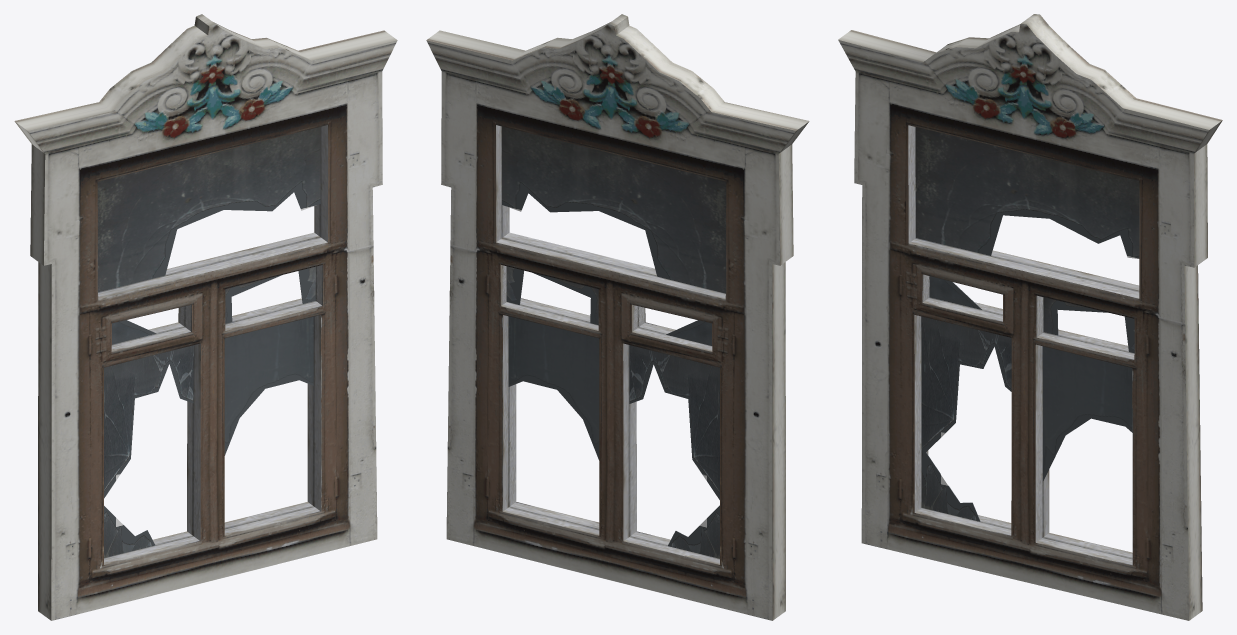
File: Windows_03.fbx
3 views of the same model, side by side, from view 1: azimuth 30°, elevation 25°; view 2: azimuth 150°, elevation 25°; view 3: azimuth 330°, elevation 25° (orthographic).
Parts seen in each view (by area): view 1: Windows_03, Windows_03glass (×5); view 2: Windows_03, Windows_03glass (×5); view 3: Windows_03, Windows_03glass (×5).
Part boxes in pixels (<box>): Windows_03: <box>14,14,397,620</box>; Windows_03glass (×5): <box>97,127,320,557</box>; Windows_03: <box>426,14,809,620</box>; Windows_03glass (×5): <box>502,126,726,558</box>; Windows_03: <box>838,14,1222,620</box>; Windows_03glass (×5): <box>915,127,1139,521</box>.
Bounding box in the file's own units: 135 × 8.55 × 195.
2 materials, 2 textured.
